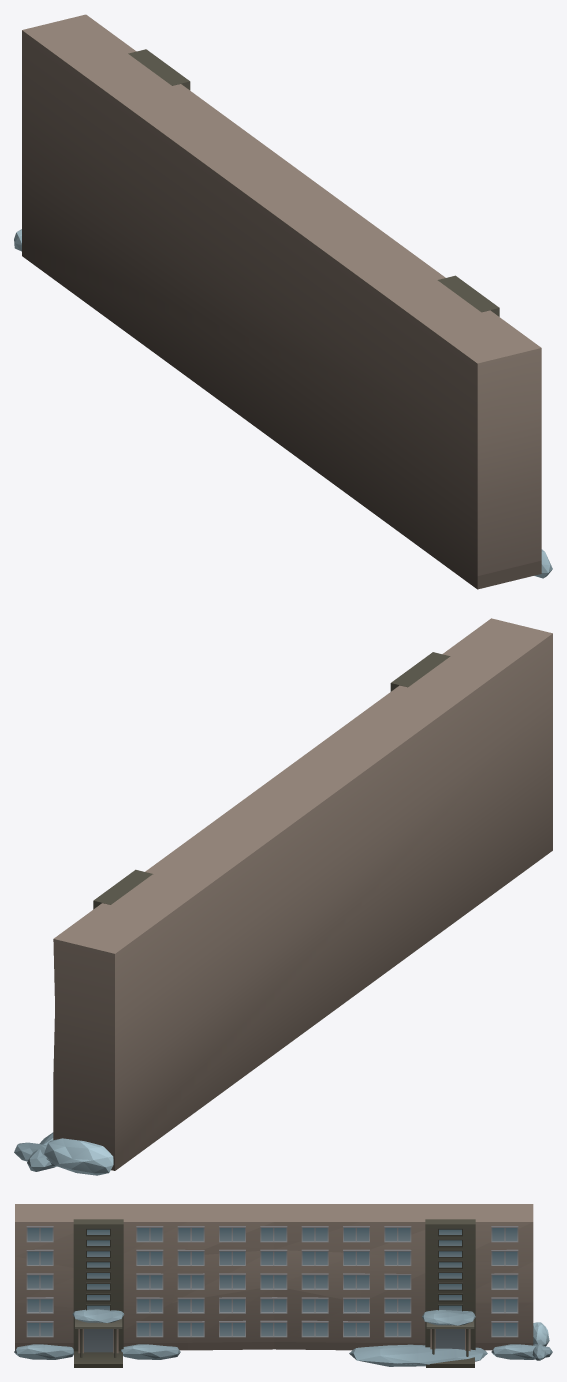
The model's file is SM_Panelki_main.fbx.
The picture shows the model from 3 angles, top to bottom: view 1: azimuth 30°, elevation 25°; view 2: azimuth 150°, elevation 25°; view 3: azimuth 270°, elevation 25°; orthographic projection. The views are drawn at different scales.
Visible parts, largest first — view 1: SM_Panelki_main; view 2: SM_Panelki_main; view 3: SM_Panelki_main.
Part boxes in pixels (left/top/right/bottom): SM_Panelki_main: left=14, top=14, right=552, bottom=589; SM_Panelki_main: left=14, top=618, right=552, bottom=1175; SM_Panelki_main: left=14, top=1204, right=552, bottom=1367.
Size of the model in its own units: 942 by 1806 by 6460.
